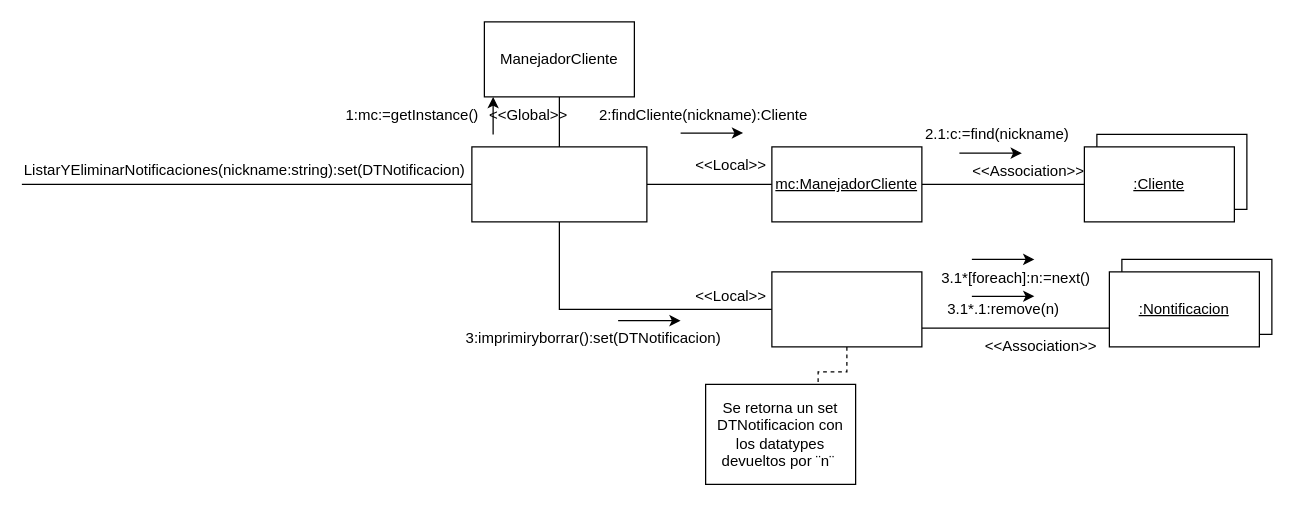
The diagram is 1294 pixels wide and 506 high, and some of its shapes have lost their labels. Here are the shapes that lost their labels. From the top down, the centre of each, then its label:
[559,184]: ControladorNotificaciones
[846,309]: c:Cliente
